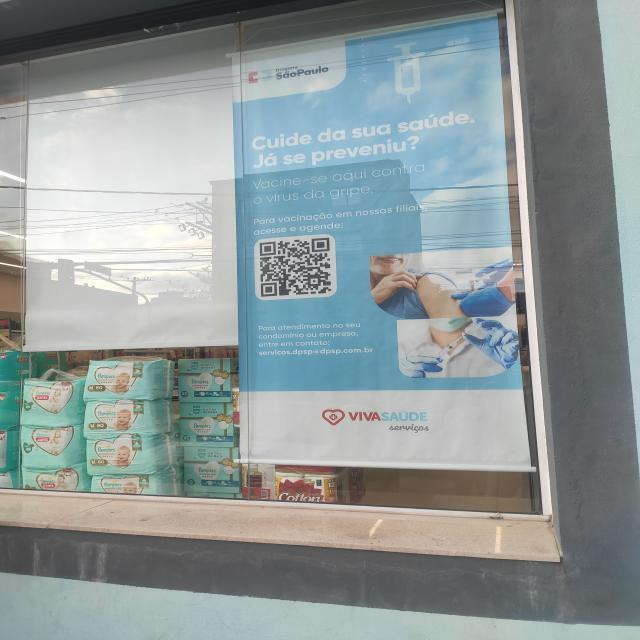qrcode: (261, 239, 332, 298)
